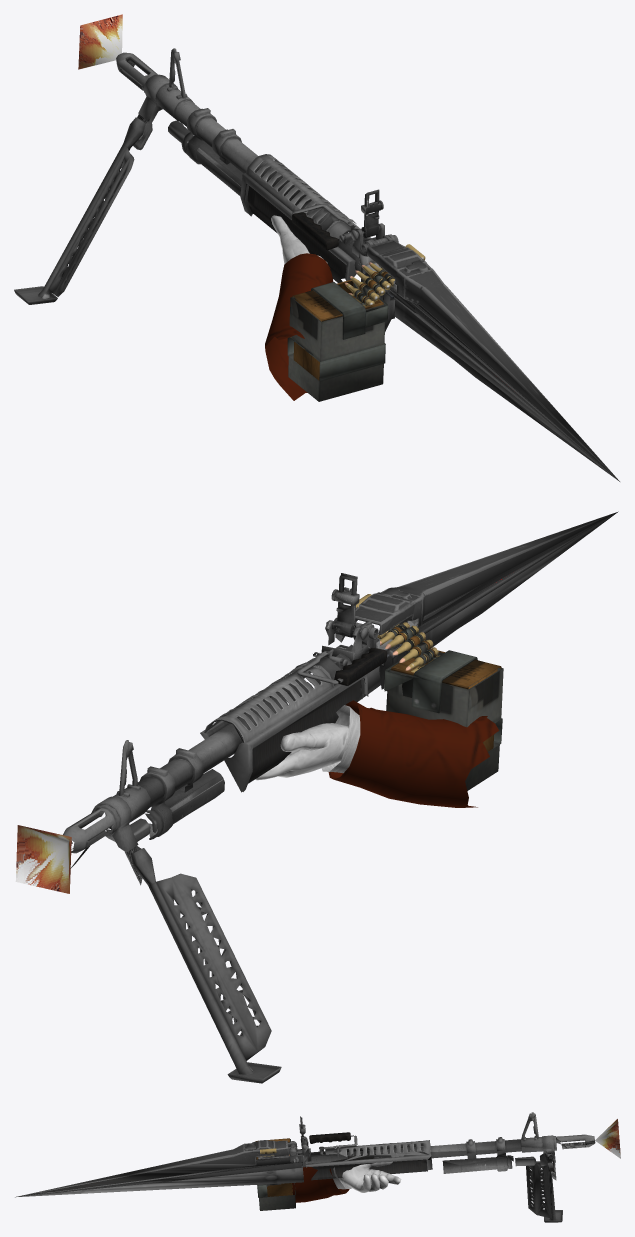
File: frame_2.obj
The picture shows the model from 3 angles, top to bottom: view 1: azimuth 30°, elevation 25°; view 2: azimuth 150°, elevation 25°; view 3: azimuth 270°, elevation 25°; orthographic projection. The views are drawn at different scales.
Parts seen in each view (by area): view 1: Mesh.005, PlayerModelMerged.001_PlayerModelMerged, Plane, Mesh.001; view 2: Mesh.005, PlayerModelMerged.001_PlayerModelMerged, Plane, Mesh.001; view 3: Mesh.005, PlayerModelMerged.001_PlayerModelMerged, Plane.
Boxes of the visible parts, <box> form: Mesh.005: <box>14,48,619,481</box>; PlayerModelMerged.001_PlayerModelMerged: <box>265,215,333,400</box>; Plane: <box>78,14,122,69</box>; Mesh.001: <box>344,262,394,305</box>; Mesh.005: <box>63,511,618,1083</box>; PlayerModelMerged.001_PlayerModelMerged: <box>255,700,498,807</box>; Plane: <box>15,825,71,893</box>; Mesh.001: <box>380,622,438,670</box>; Mesh.005: <box>15,1112,595,1222</box>; PlayerModelMerged.001_PlayerModelMerged: <box>292,1161,401,1202</box>; Plane: <box>595,1119,620,1158</box>.
Bounding box in the file's own units: 0.4589 × 0.6135 × 2.36.
